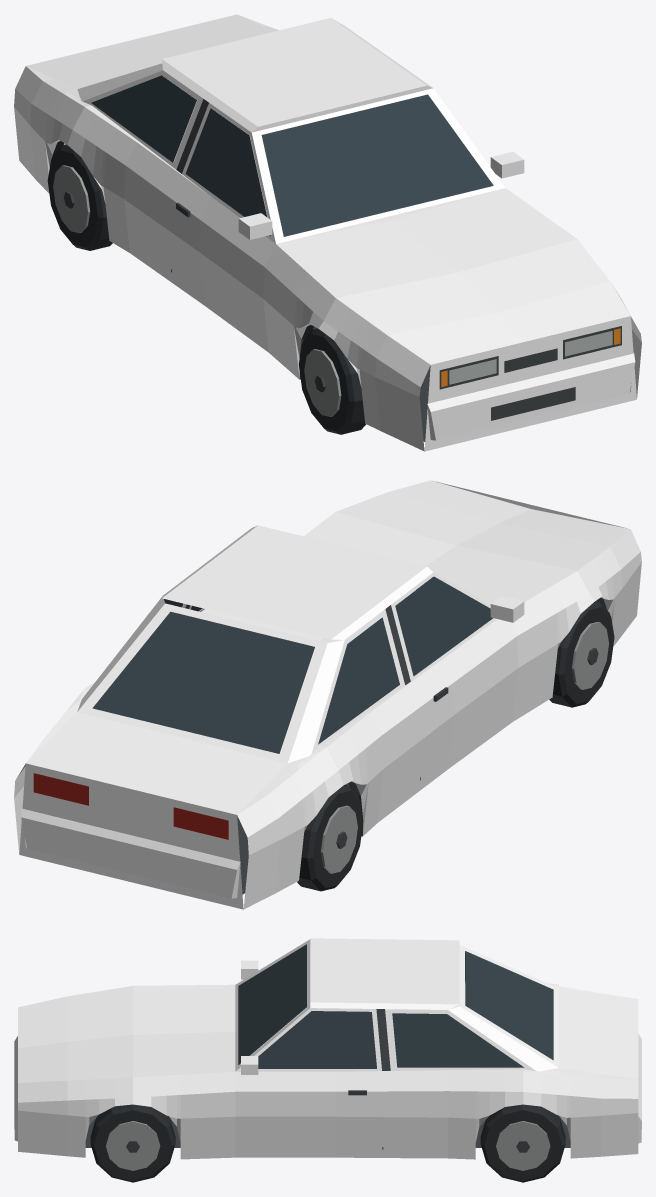
File: kanaya_fuyu_s_98.glb
3 views of the same model, one above another, from view 1: azimuth 30°, elevation 25°; view 2: azimuth 150°, elevation 25°; view 3: azimuth 270°, elevation 25° (orthographic). The views are drawn at different scales.
Visible parts, largest first — view 1: kanaya_fuyu_s_98; view 2: kanaya_fuyu_s_98; view 3: kanaya_fuyu_s_98.
Part boxes in pixels (bbox=[...]): kanaya_fuyu_s_98: bbox=[14, 14, 641, 451]; kanaya_fuyu_s_98: bbox=[14, 480, 641, 909]; kanaya_fuyu_s_98: bbox=[14, 938, 641, 1182].
Size of the model in its own units: 1.72 by 1.25 by 4.36.
8 materials, 1 textured.
